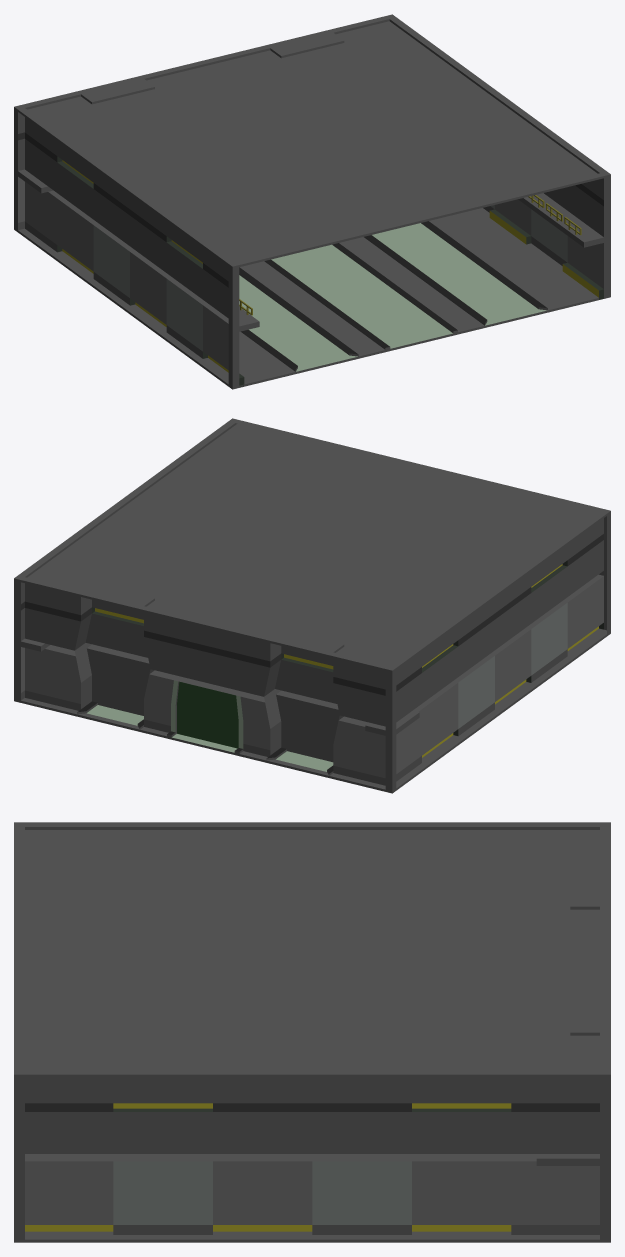
The model's file is Humger.obj.
The picture shows the model from 3 angles, top to bottom: view 1: azimuth 30°, elevation 25°; view 2: azimuth 150°, elevation 25°; view 3: azimuth 270°, elevation 25°; orthographic projection. The views are drawn at different scales.
Visible parts, largest first — view 1: Cube; view 2: Cube; view 3: Cube.
Part boxes in pixels (bbox=[...]): Cube: bbox=[14, 14, 610, 389]; Cube: bbox=[14, 418, 610, 793]; Cube: bbox=[14, 822, 610, 1242].
Size of the model in its own units: 37.58 by 11.66 by 37.58.
Materials: 1 (1 with a texture image).
